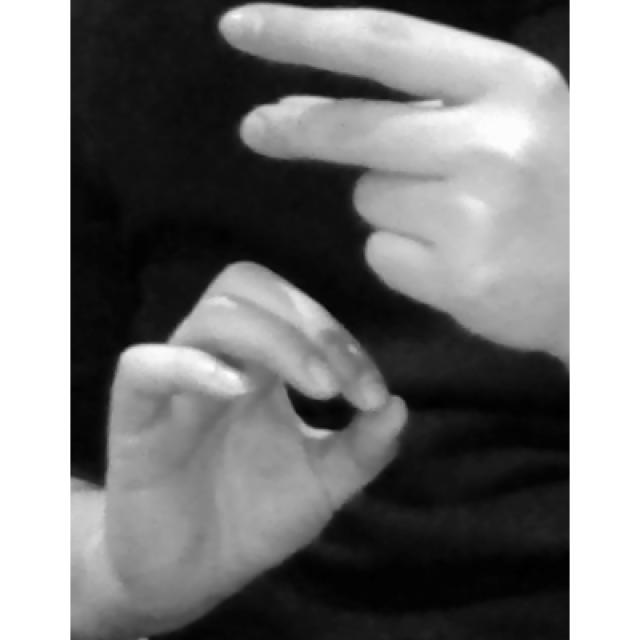O--: (100, 0, 570, 618)
